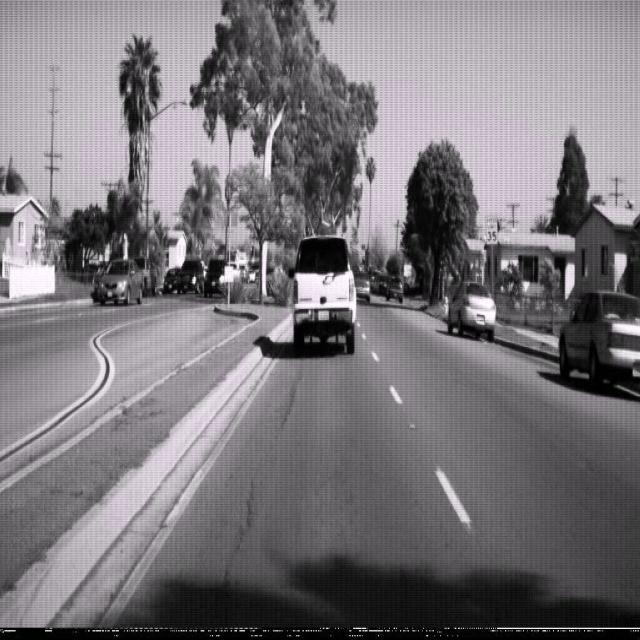speedLimit35: (485, 212, 499, 245)
